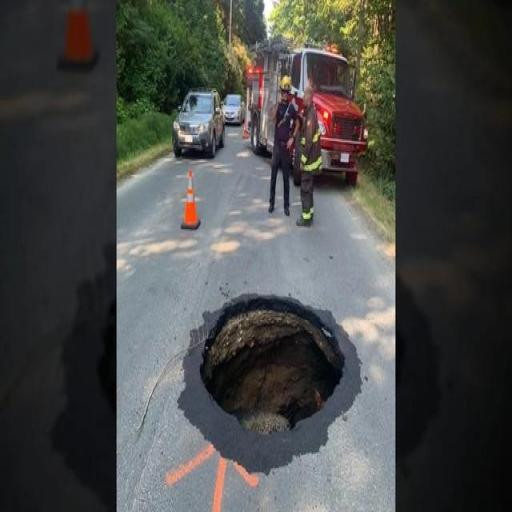Concentric_Crack: (201, 297, 344, 433)
